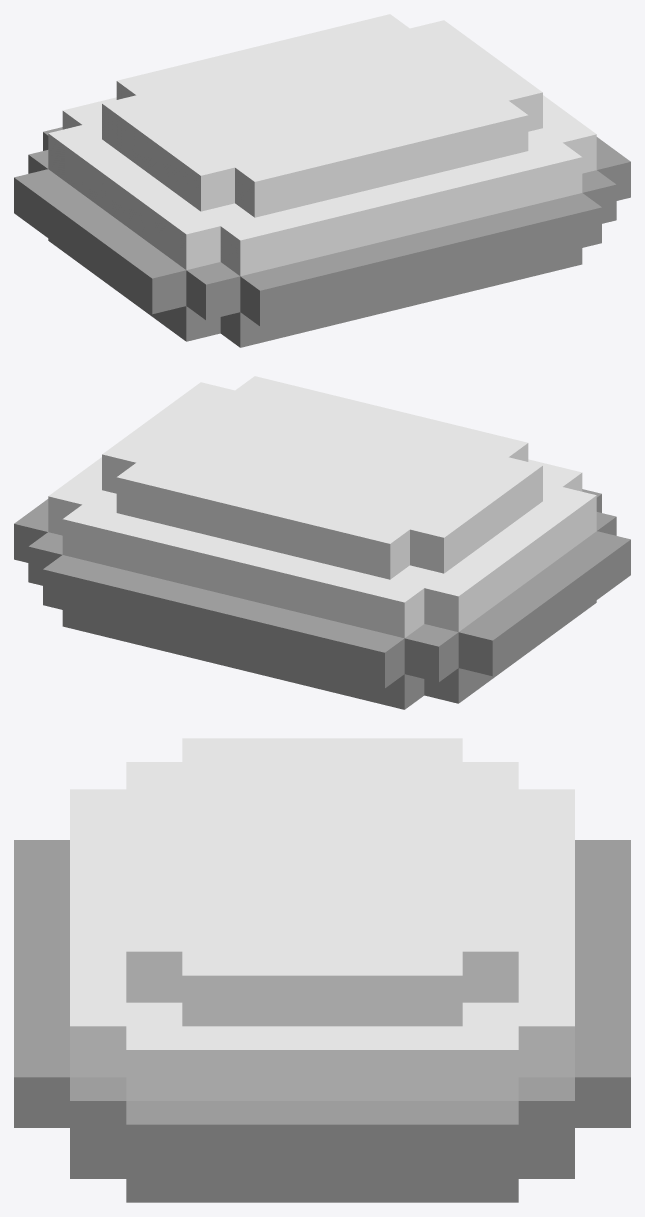
Rendered from MiesoWFolii.dae.
3 renders of one model, top to bottom at view 1: azimuth 30°, elevation 25°; view 2: azimuth 150°, elevation 25°; view 3: azimuth 270°, elevation 25°, orthographic. The views are drawn at different scales.
Parts seen in each view (by area): view 1: tak-local, Folia-local; view 2: tak-local, Folia-local; view 3: tak-local, Folia-local.
Part boxes in pixels (x1,y1,x2,y2): tak-local: [48, 14, 596, 276]; Folia-local: [14, 127, 630, 347]; tak-local: [48, 376, 596, 638]; Folia-local: [14, 489, 630, 709]; tak-local: [70, 738, 574, 1100]; Folia-local: [14, 840, 630, 1202].
Size of the model in its own units: 14 by 4 by 11.
Materials: 2 (2 with a texture image).
